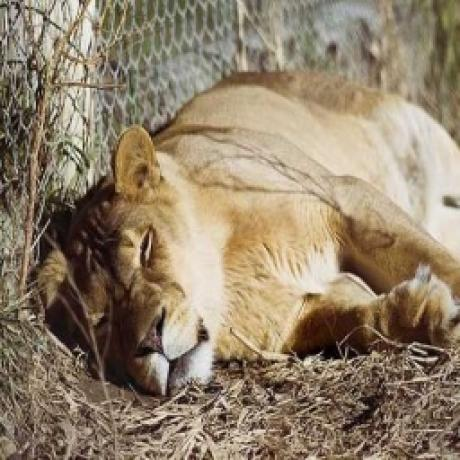Lion: (33, 64, 460, 397)
